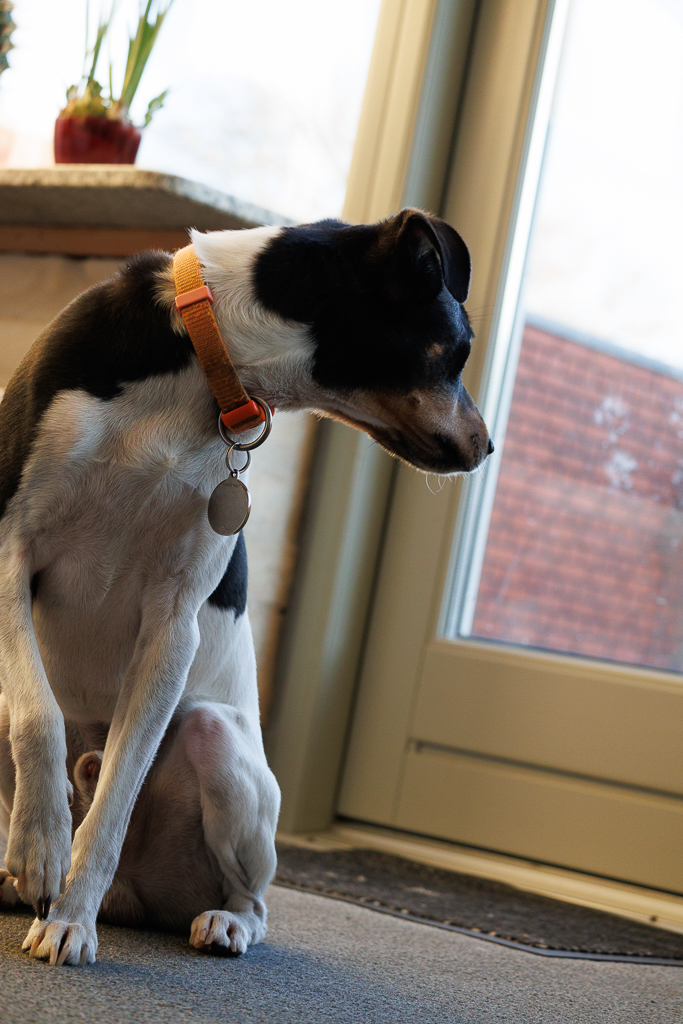Dog: (0, 205, 509, 980)
